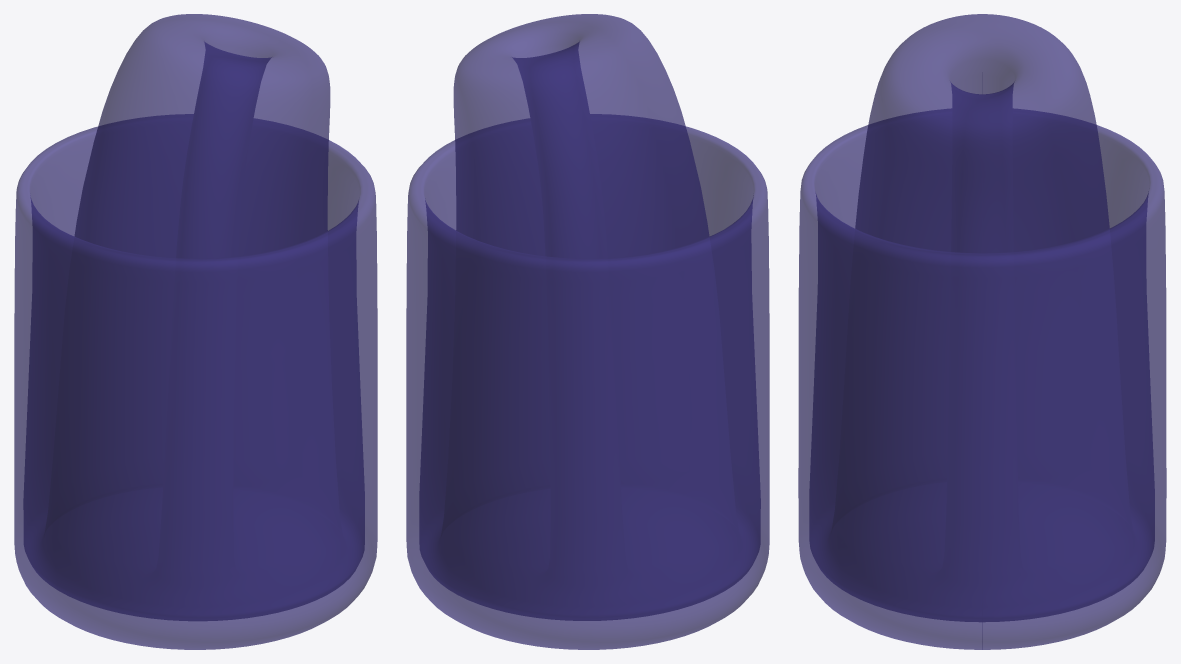
Rendered from magic_glass.glb.
3 renders of one model, left to right at view 1: azimuth 30°, elevation 25°; view 2: azimuth 150°, elevation 25°; view 3: azimuth 270°, elevation 25°, orthographic.
Parts seen in each view (by area): view 1: Cylinder_0; view 2: Cylinder_0; view 3: Cylinder_0.
Part boxes in pixels (x1,y1,x2,y2): Cylinder_0: (14,14,377,649); Cylinder_0: (406,14,769,649); Cylinder_0: (798,14,1166,649).
Size of the model in its own units: 1.99 by 3.34 by 1.99.
